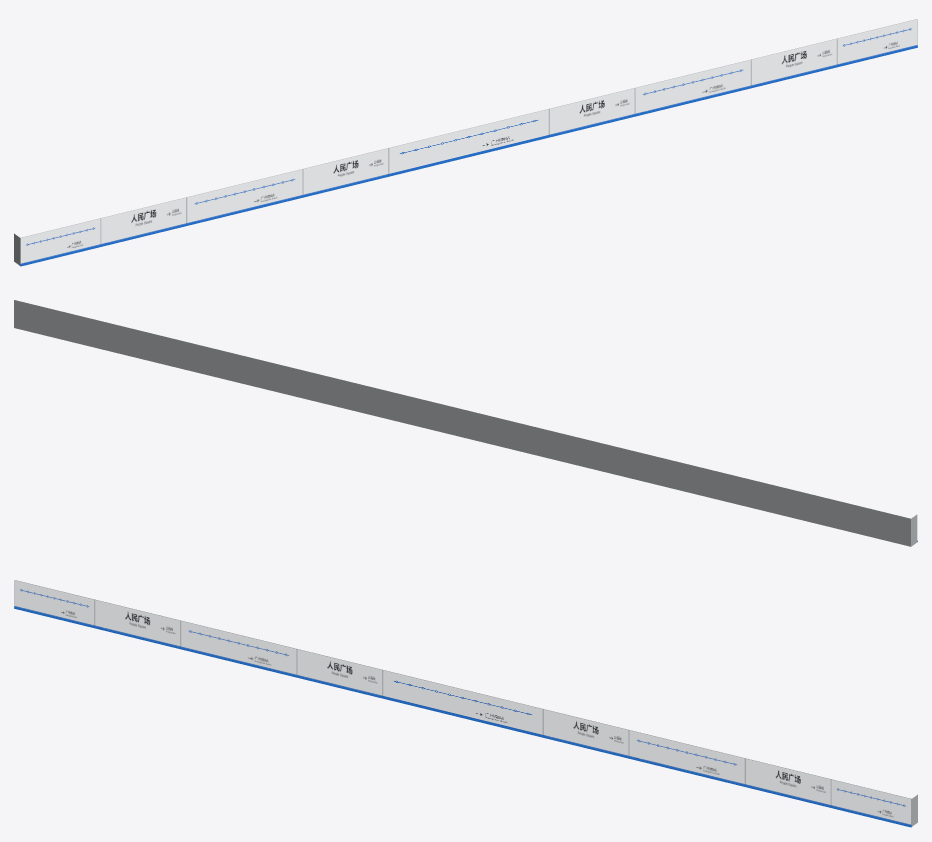
Rendered from PlatformEdgeHeader.glb.
The picture shows the model from 3 angles, top to bottom: view 1: azimuth 30°, elevation 25°; view 2: azimuth 150°, elevation 25°; view 3: azimuth 330°, elevation 25°; orthographic projection.
Visible parts, largest first — view 1: psd-route-header (×5), psd-station-header (×4), psd-line-colour-band, psd-info-housing; view 2: psd-info-housing; view 3: psd-route-header (×5), psd-station-header (×4), psd-line-colour-band, psd-info-housing.
Boxes of the visible parts, x1,y1,x2,y2 form: psd-route-header (×5): [20, 19, 917, 264]; psd-station-header (×4): [101, 39, 837, 245]; psd-line-colour-band: [20, 46, 917, 266]; psd-info-housing: [14, 19, 916, 265]; psd-info-housing: [14, 300, 917, 546]; psd-route-header (×5): [14, 580, 911, 825]; psd-station-header (×4): [94, 600, 830, 806]; psd-line-colour-band: [14, 607, 911, 827]; psd-info-housing: [15, 580, 917, 826].
Bounding box in the file's own units: 20 × 0.6005 × 0.265.
Materials: 4 (3 with a texture image).
